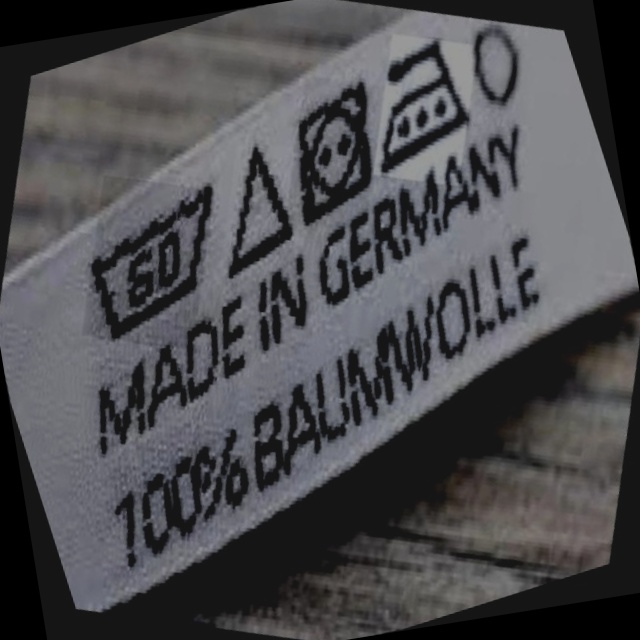60C: (47, 161, 256, 356)
bleach: (195, 127, 318, 286)
iron_high: (345, 18, 495, 186)
tumble_dry_medium: (264, 66, 404, 232)
